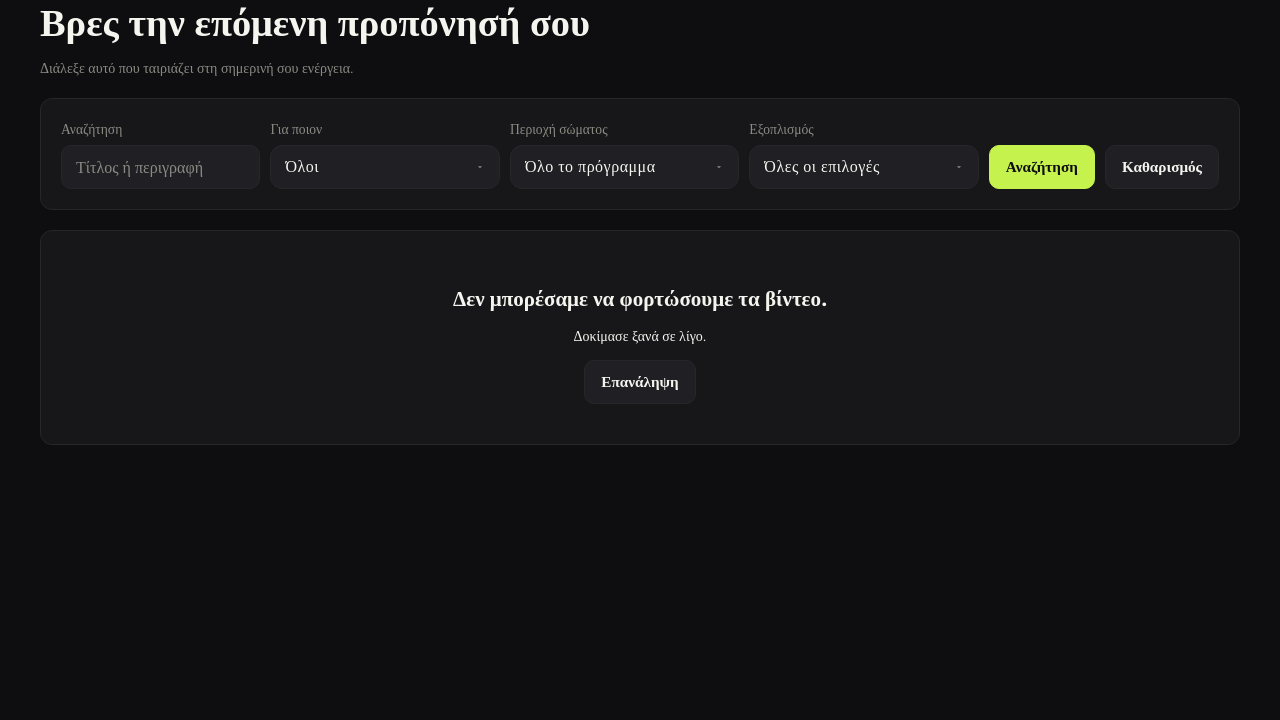
Video library › can retry an error without changing the route
Click the button "Επανάληψη".
click(640, 382)  # box [584,360,696,404]
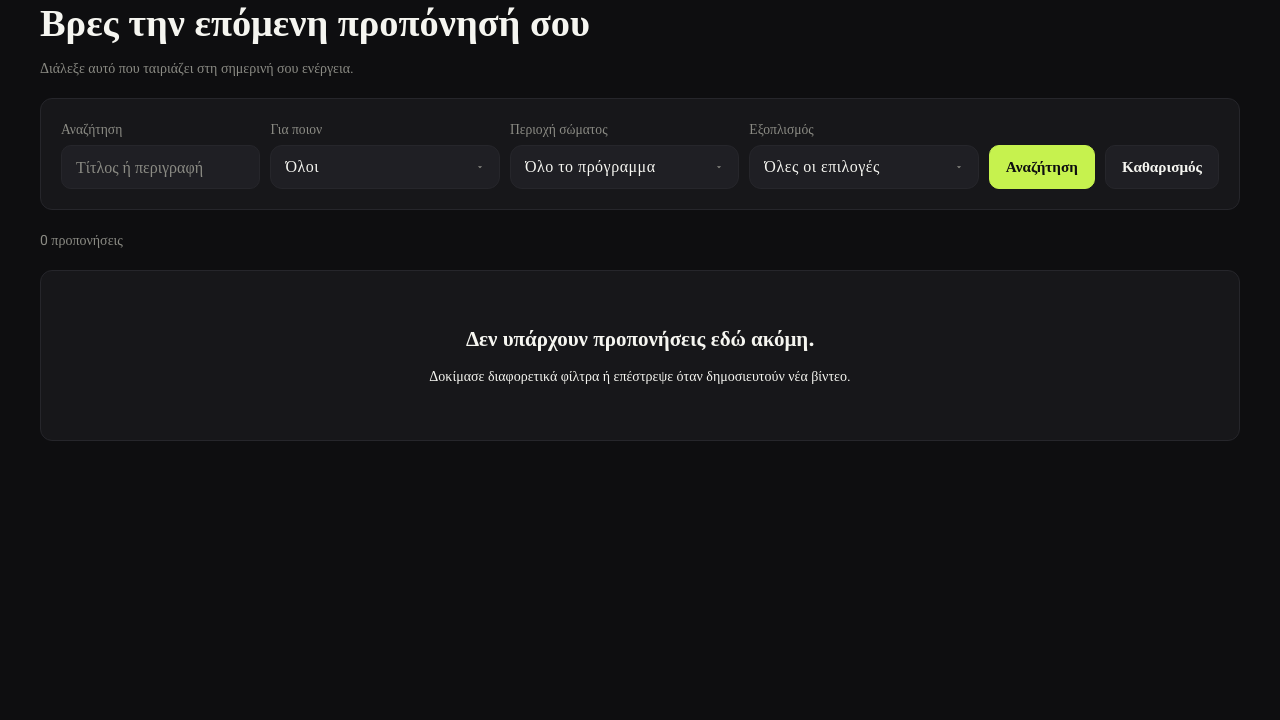
Now the text "Δεν υπάρχουν προπονήσεις" is shown, box [466,326,814,350]
